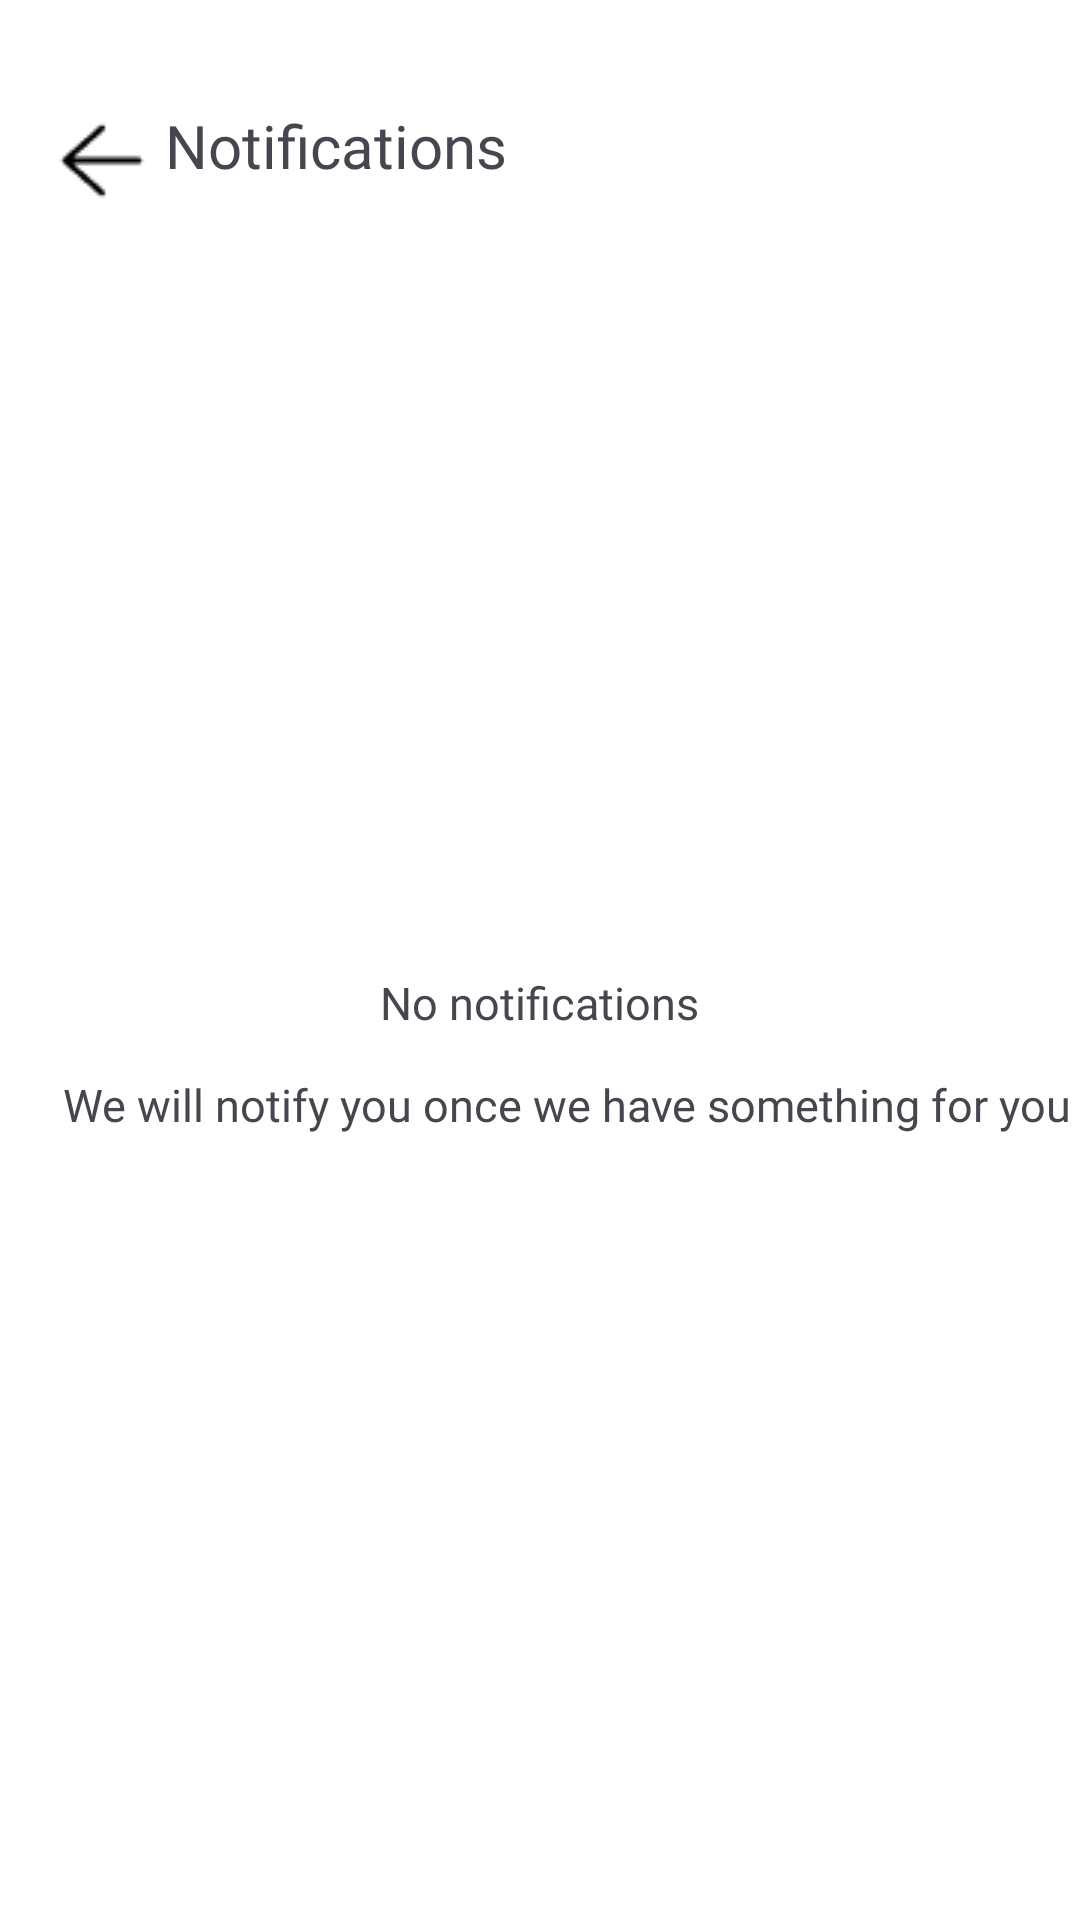

Icon bounding boxes for this 1080x1920 phone screenshot, format (x1, y1, x2, y2):
arrow: (60, 124, 144, 197)
